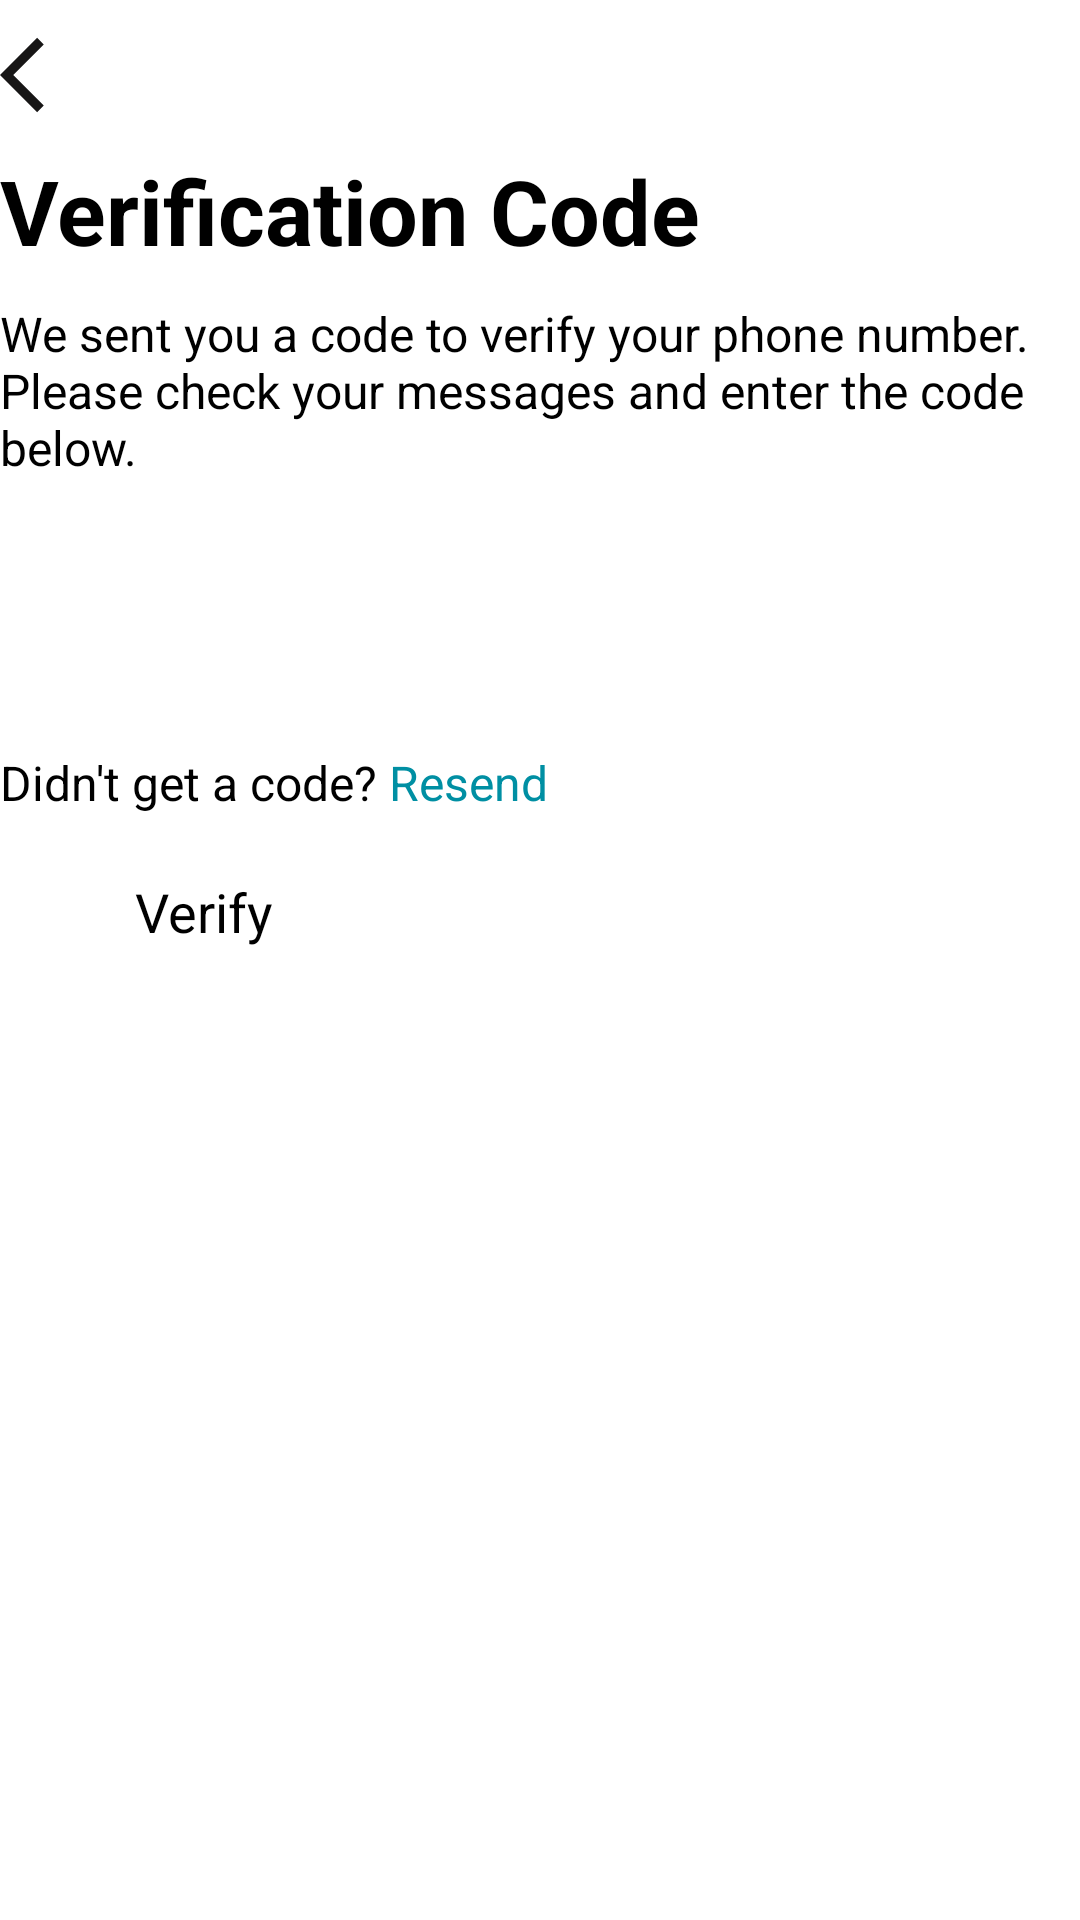

Named icons in this screenshot (1080 x 1920) and their bounding boxes, (x1, y1, x2, y2):
back: (0, 38, 44, 112)
